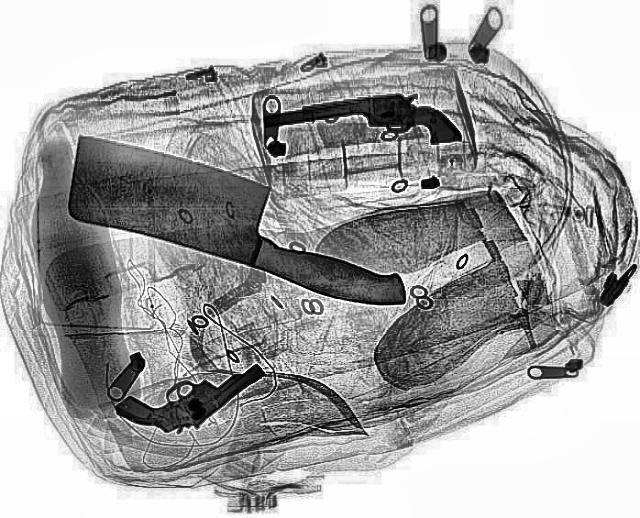Gun: (259, 91, 461, 149), (112, 364, 274, 434)
Knife: (35, 124, 442, 316)
